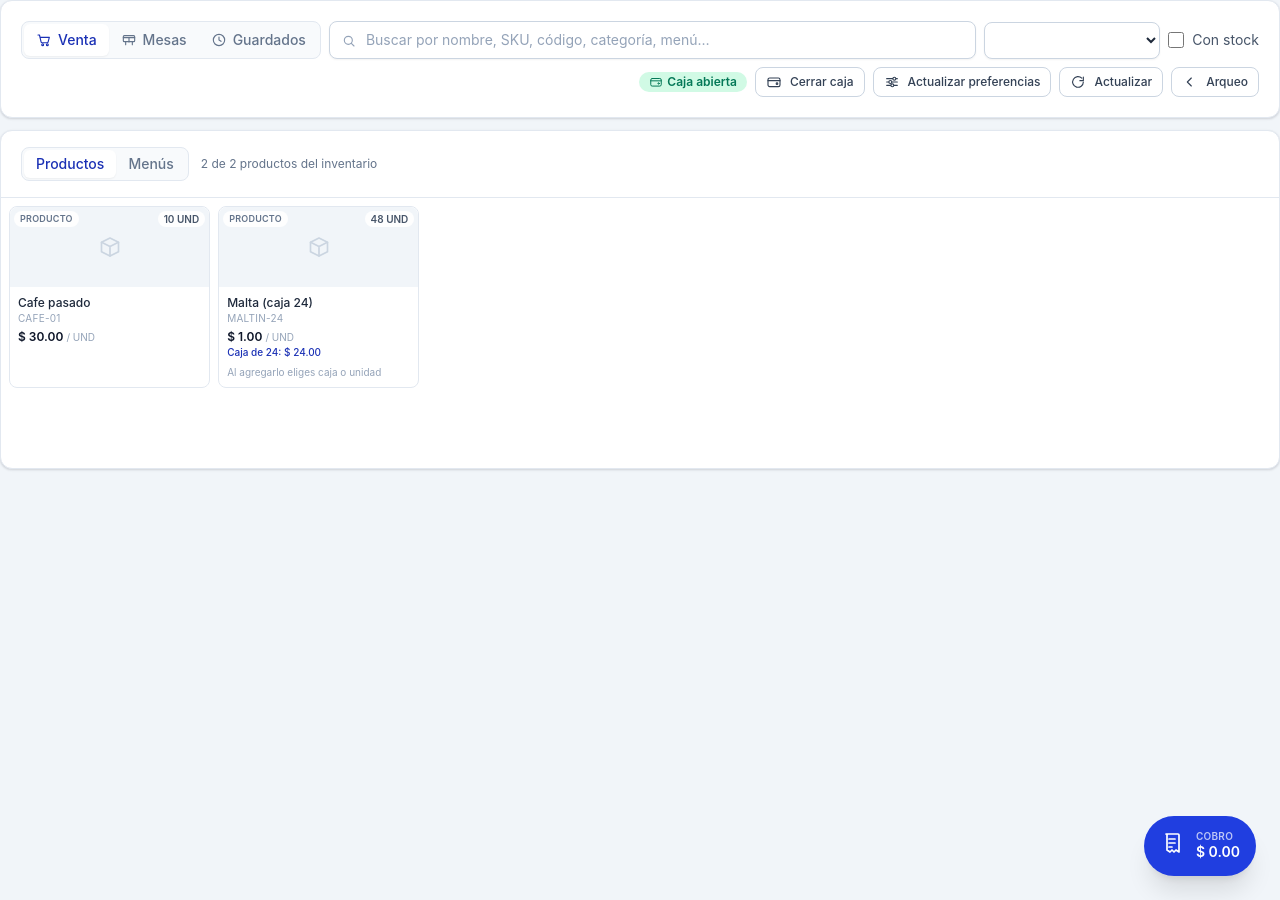
it: PosComponent (vista de cajero) › abre la tarjeta de cobro en un panel lateral desde el botón flotante
Click the button "Cobro $ 0.00".
click(1200, 846)  # box [1144,816,1256,876]
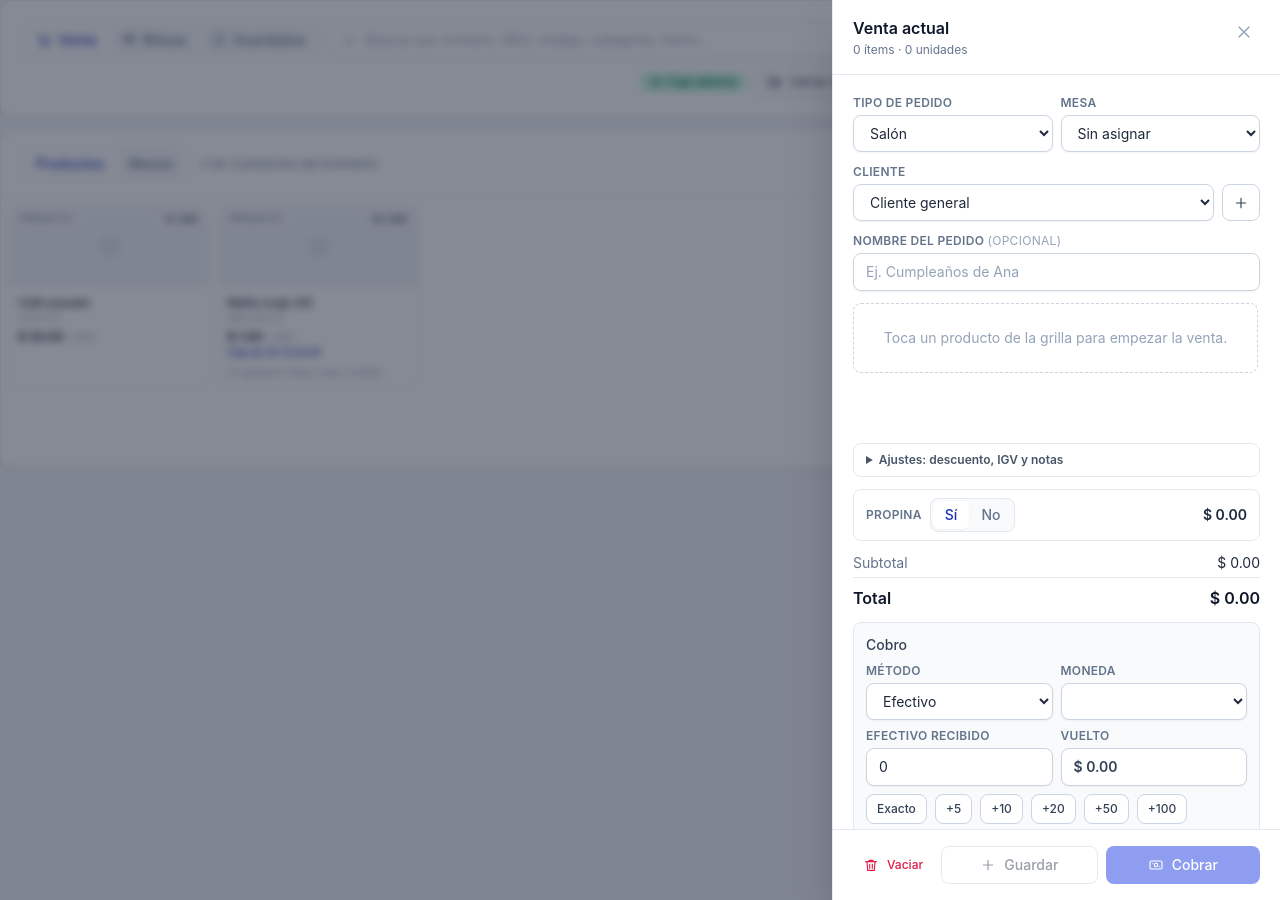
Expected: the dialog is shown, [832,0,1279,899]
Expected: the dialog shows "Venta actual", [853,18,949,38]
Expected: the dialog shows "Cobro", [866,636,907,653]
